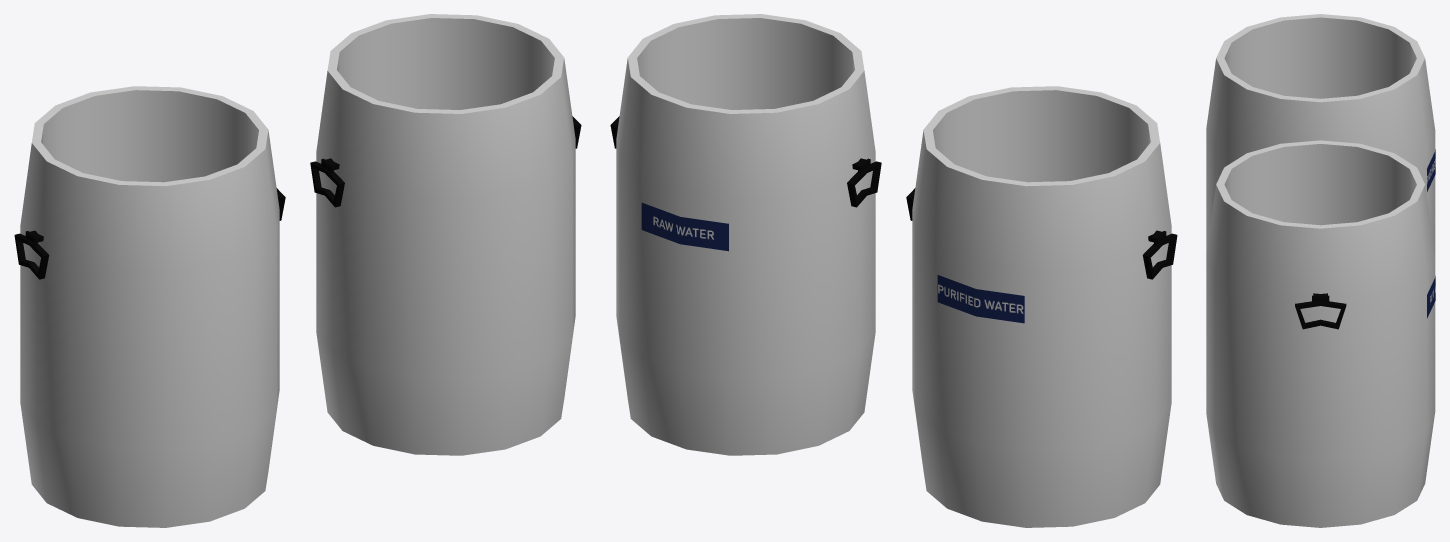
The model's file is Hollow Drum.fbx.
3 views of the same model, side by side, from view 1: azimuth 30°, elevation 25°; view 2: azimuth 150°, elevation 25°; view 3: azimuth 270°, elevation 25° (orthographic). The views are drawn at different scales.
Visible parts, largest first — view 1: Hollow_Drum (×2), Handle_1 (×2); view 2: Hollow_Drum (×2), Sticker (×2), Handle_1 (×2); view 3: Hollow_Drum (×2), Hnadle_2.
Boxes of the visible parts, x1,y1,x2,y2 form: Hollow_Drum (×2): (20, 14, 575, 527); Handle_1 (×2): (14, 158, 344, 279); Hollow_Drum (×2): (616, 14, 1171, 527); Sticker (×2): (641, 202, 1024, 323); Handle_1 (×2): (847, 158, 1177, 279); Hollow_Drum (×2): (1206, 14, 1435, 527); Hnadle_2: (1295, 293, 1346, 329).
Bounding box in the file's own units: 129 × 78.24 × 54.41.
4 materials, 2 textured.
